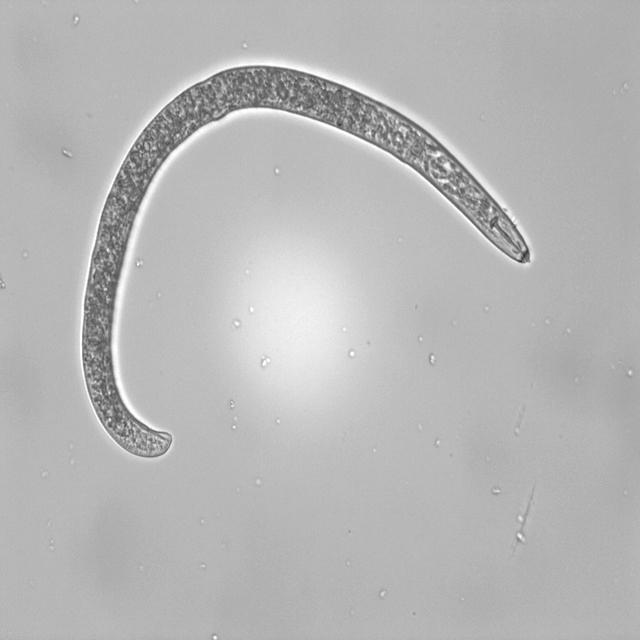Helicotylenchus: (73, 54, 550, 461)
